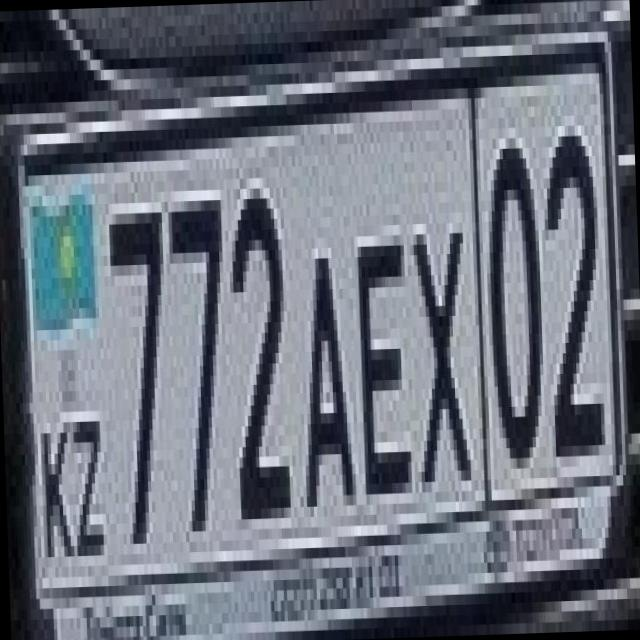0: (468, 127, 549, 459)
2: (524, 94, 608, 446), (212, 166, 290, 520)
7: (153, 168, 232, 532), (104, 181, 169, 524)
A: (284, 236, 352, 496)
E: (343, 213, 408, 484)
X: (402, 212, 474, 472)
